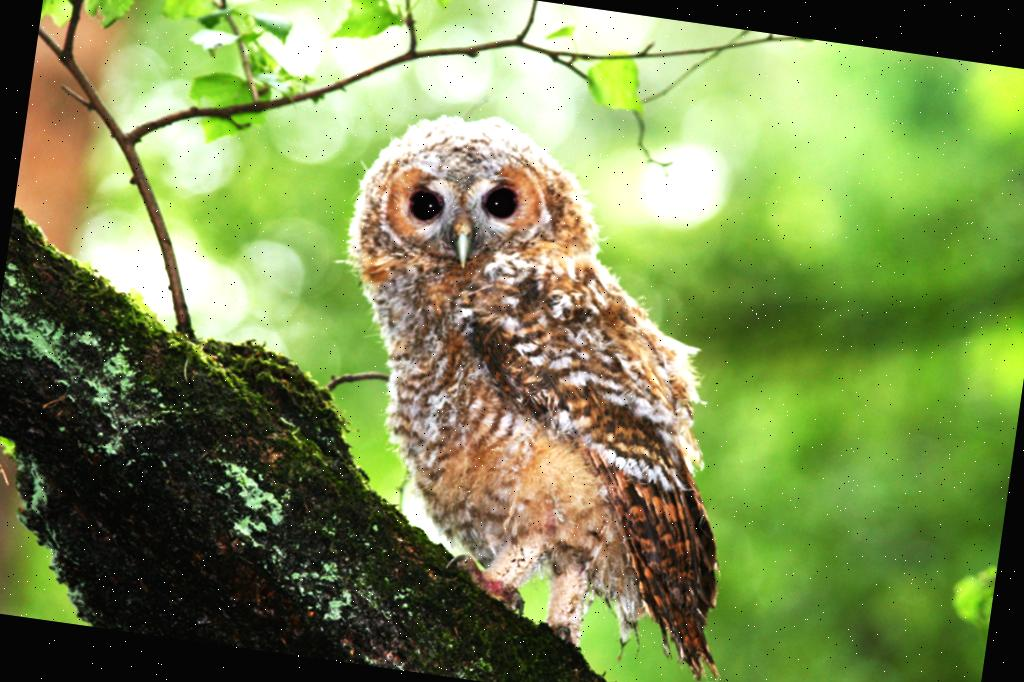Owl: (282, 95, 788, 682)
